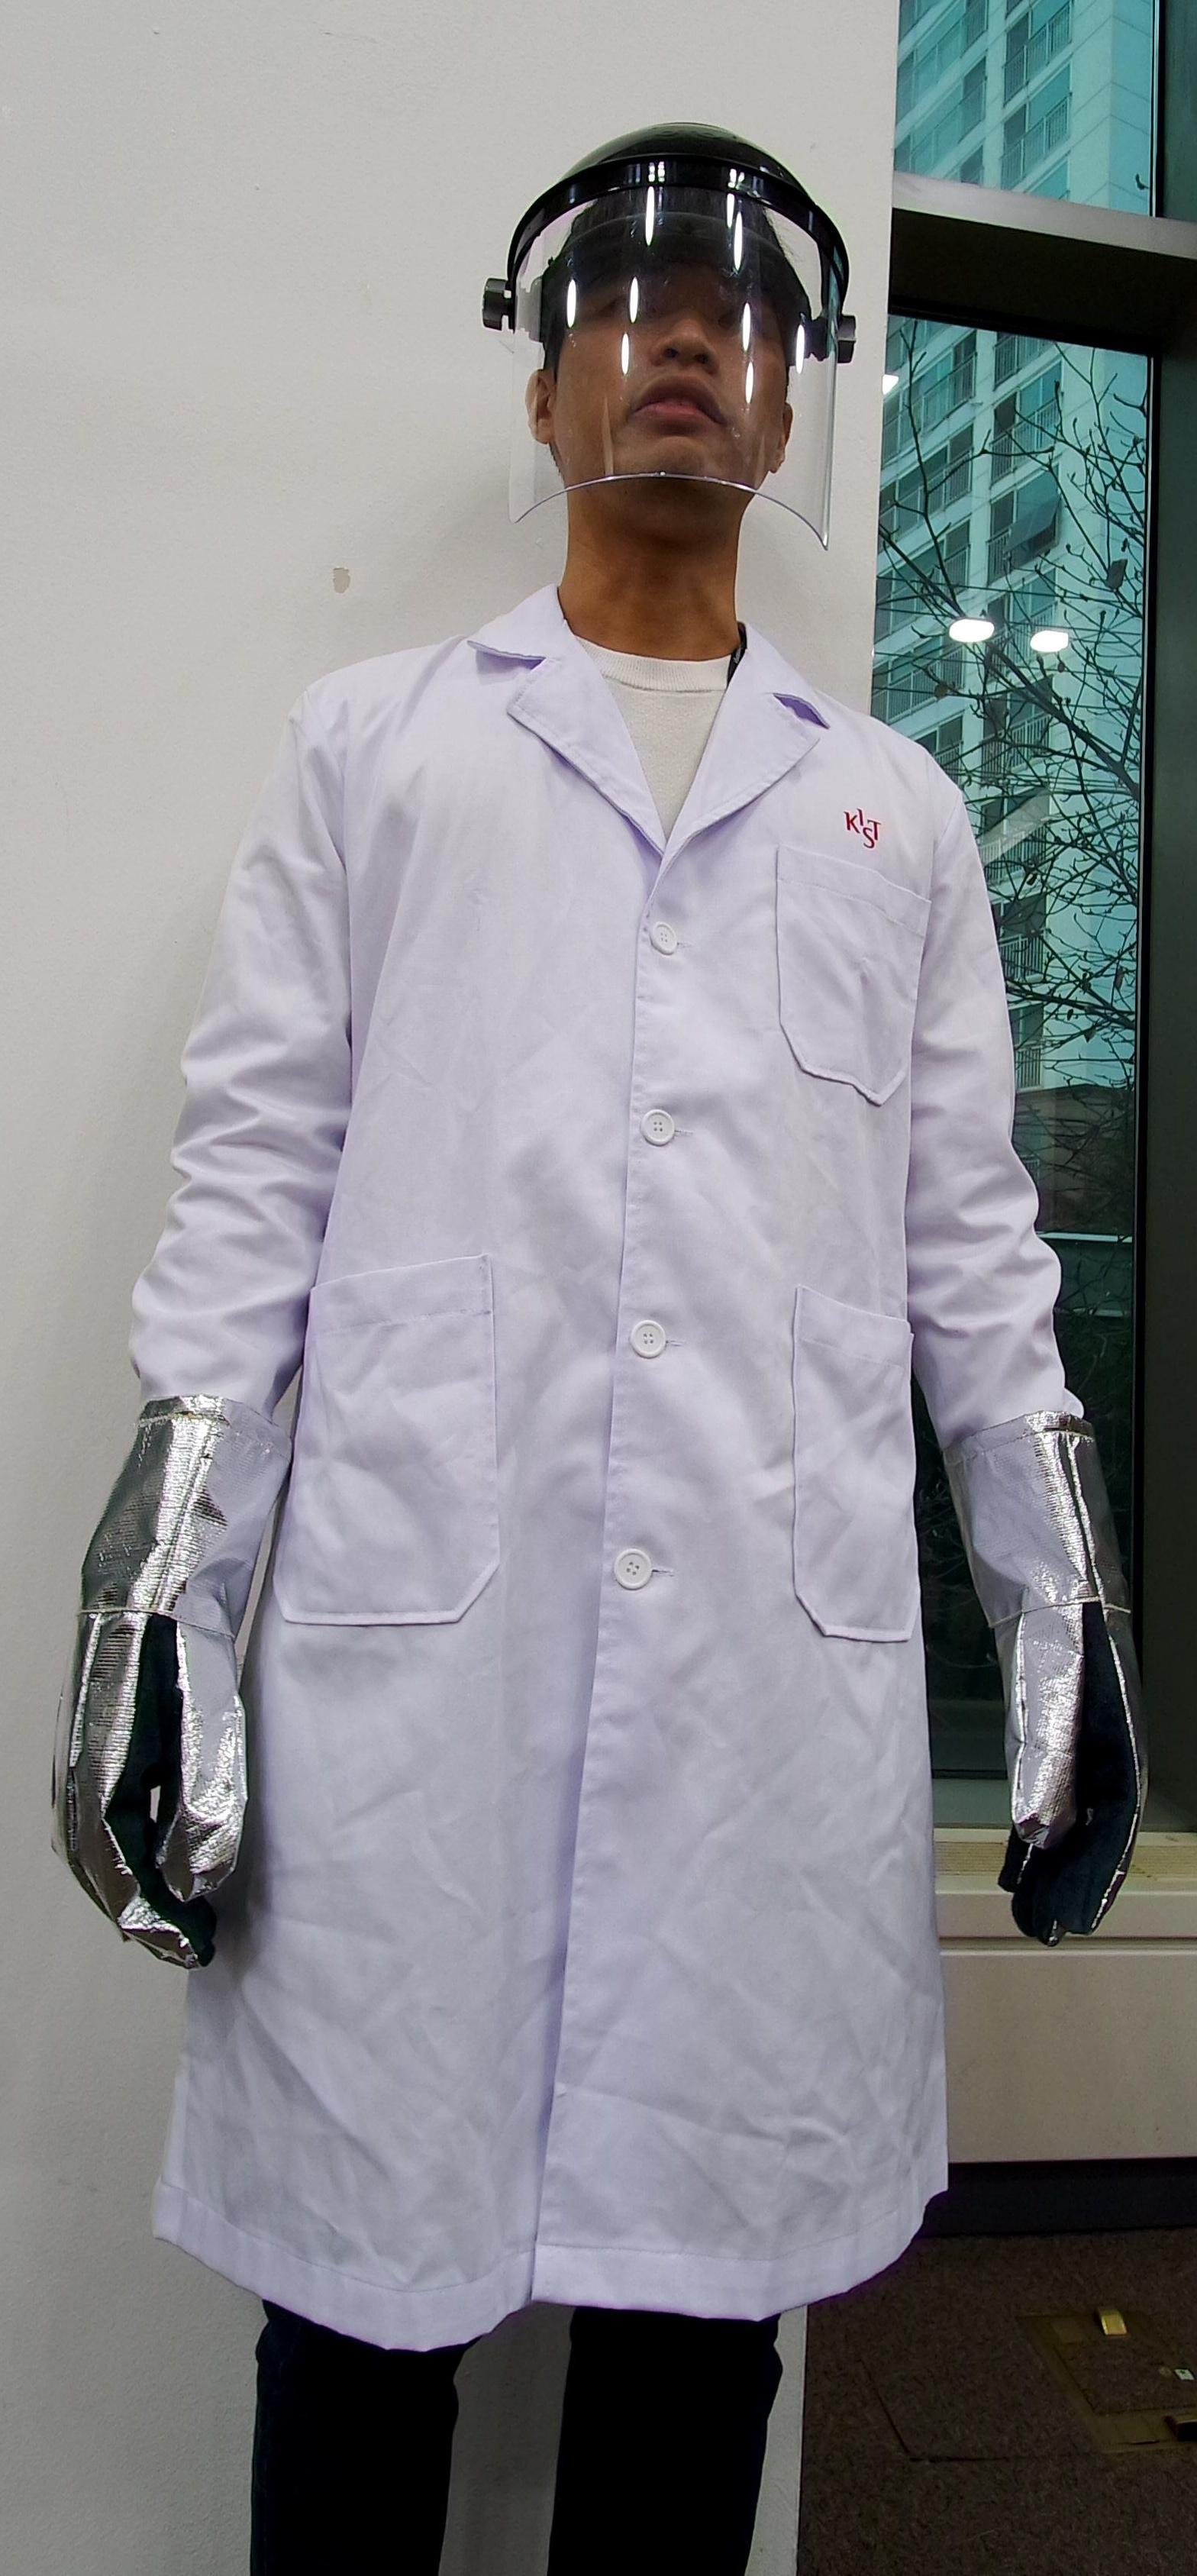lab_coat: (245, 849, 956, 2269)
